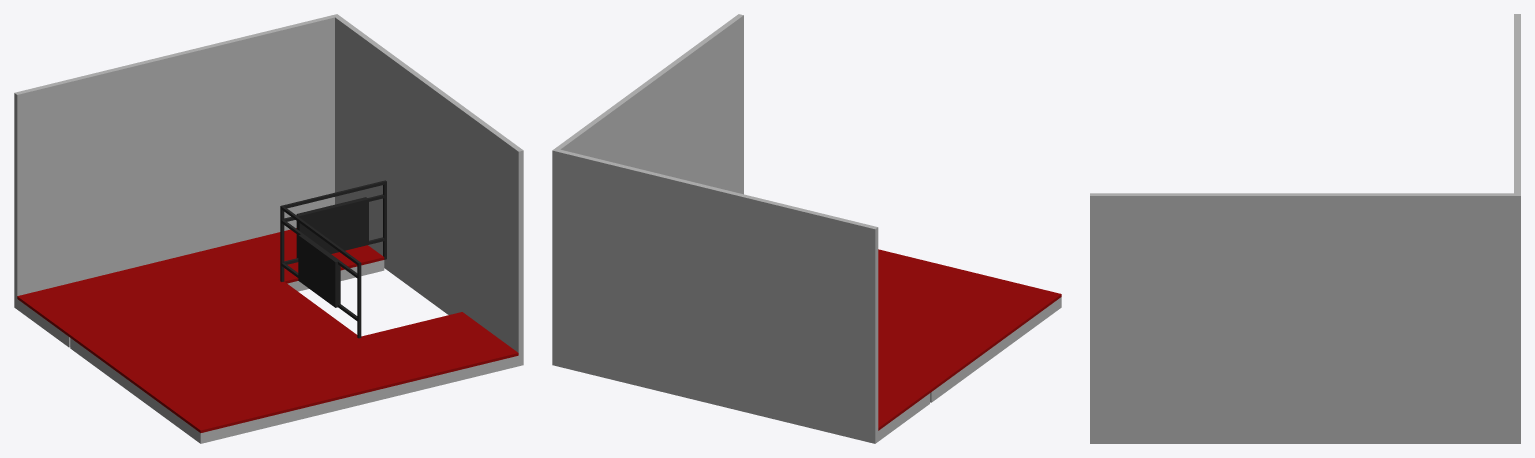
File: 4x2 third (1)-6.obj
3 views of the same model, side by side, from view 1: azimuth 30°, elevation 25°; view 2: azimuth 150°, elevation 25°; view 3: azimuth 270°, elevation 25° (orthographic). The views are drawn at different scales.
Parts seen in each view (by area): view 1: 4x2 third (1)-6; view 2: 4x2 third (1)-6; view 3: 4x2 third (1)-6.
Boxes of the visible parts, left/top/right/bottom form: 4x2 third (1)-6: left=14, top=14, right=523, bottom=443; 4x2 third (1)-6: left=552, top=14, right=1061, bottom=443; 4x2 third (1)-6: left=1090, top=14, right=1520, bottom=443.
Size of the model in its own units: 126 by 80 by 126.
Materials: 1 (1 with a texture image).
